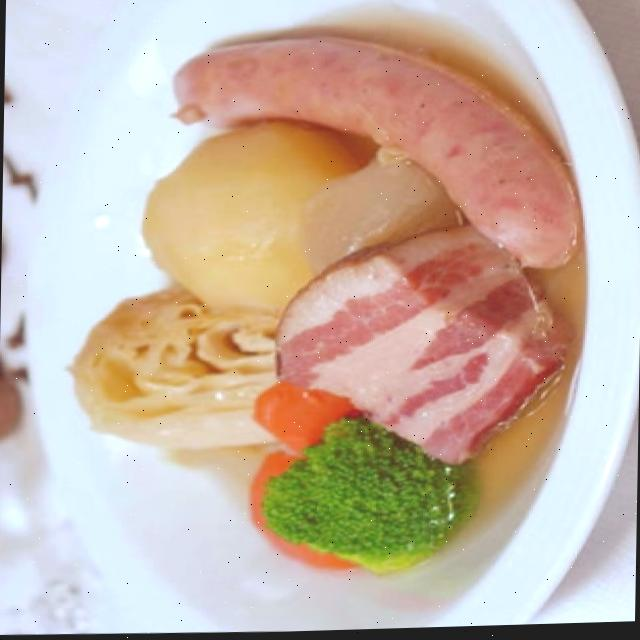汤锅炖物: (25, 0, 638, 611)
